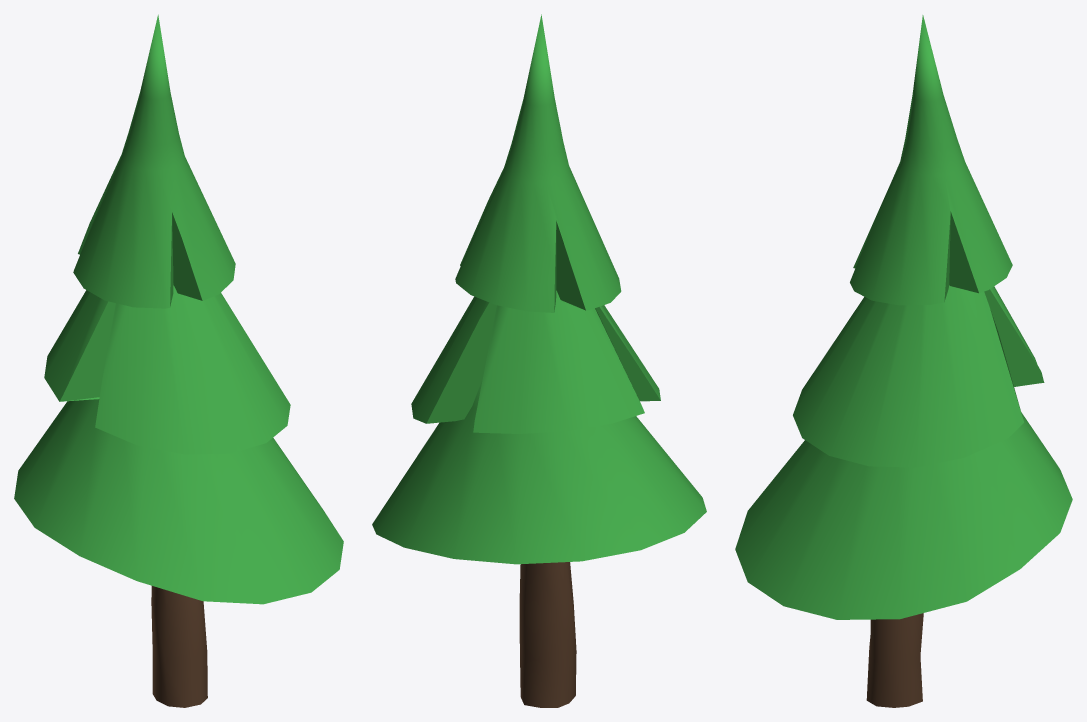
The model's file is WF_ProceeduralTree.001.glb.
3 renders of one model, left to right at view 1: azimuth 30°, elevation 25°; view 2: azimuth 150°, elevation 25°; view 3: azimuth 270°, elevation 25°, orthographic. The views are drawn at different scales.
Visible parts, largest first — view 1: Tree.013; view 2: Tree.013; view 3: Tree.013.
Boxes of the visible parts, x1,y1,x2,y2 form: Tree.013: (14, 14, 343, 707); Tree.013: (372, 14, 706, 707); Tree.013: (735, 15, 1072, 707).
Size of the model in its own units: 0.603 by 1.36 by 0.6138.
